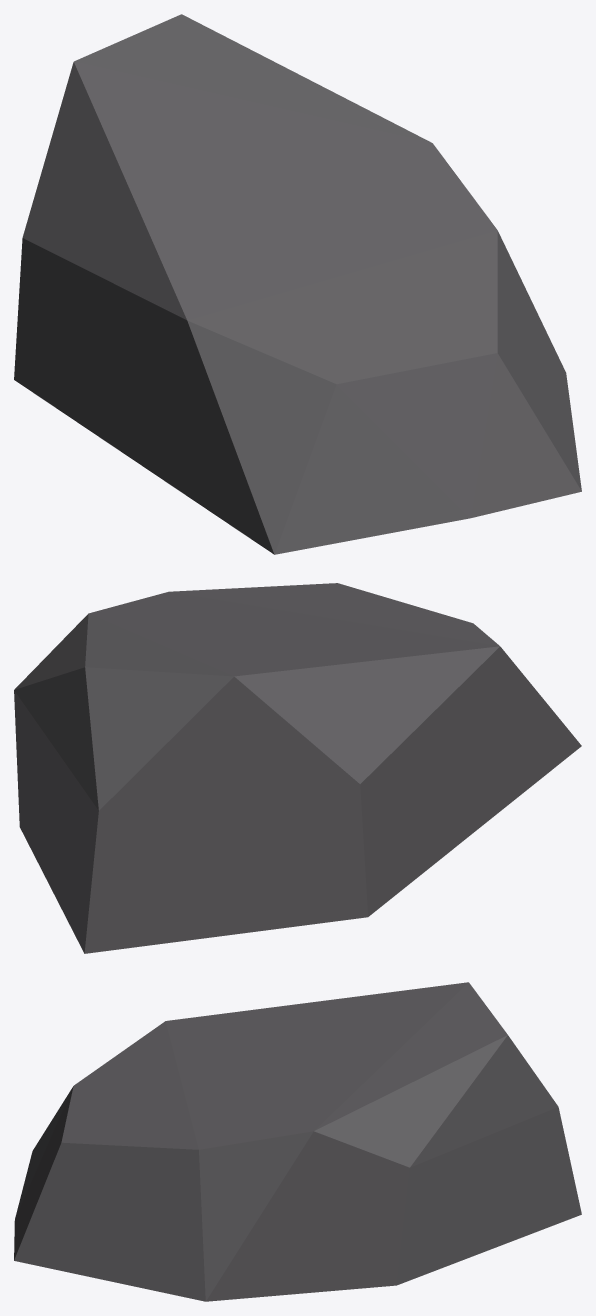
File: mesh_rock_02.fbx
3 views of the same model, one above another, from view 1: azimuth 30°, elevation 25°; view 2: azimuth 150°, elevation 25°; view 3: azimuth 270°, elevation 25° (orthographic). The views are drawn at different scales.
Parts seen in each view (by area): view 1: mesh_rock_02; view 2: mesh_rock_02; view 3: mesh_rock_02.
Boxes of the visible parts, box(x1,y1,x2,y2) form: mesh_rock_02: box(14, 14, 581, 554); mesh_rock_02: box(14, 583, 581, 953); mesh_rock_02: box(14, 982, 581, 1301).
Size of the model in its own units: 254 by 151 by 388.
